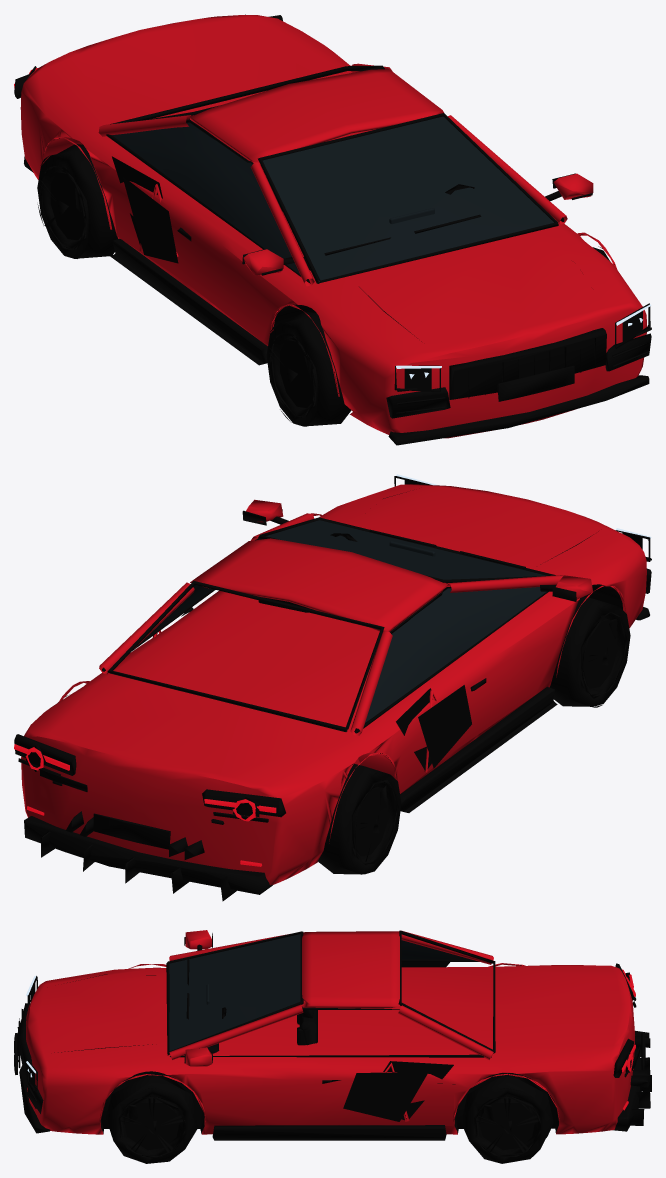
File: ferrari-far.glb
3 views of the same model, one above another, from view 1: azimuth 30°, elevation 25°; view 2: azimuth 150°, elevation 25°; view 3: azimuth 270°, elevation 25° (orthographic). The views are drawn at different scales.
Visible parts, largest first — view 1: chassis.001__Automotive clearcoat, chassis.001__Solar glass, chassis.001__Vehicle detail atlas, wheel_FL.001__Vehicle detail atlas, wheel_RL.001__Vehicle detail atlas; view 2: chassis.001__Automotive clearcoat, chassis.001__Vehicle detail atlas, chassis.001__Solar glass, wheel_FL.001__Vehicle detail atlas, wheel_RL.001__Vehicle detail atlas, chassis.001__Red LED optics; view 3: chassis.001__Automotive clearcoat, chassis.001__Vehicle detail atlas, chassis.001__Solar glass, wheel_FR.001__Vehicle detail atlas, wheel_RR.001__Vehicle detail atlas.
Boxes of the visible parts, x1,y1,x2,y2 form: chassis.001__Automotive clearcoat: (20, 15, 647, 438); chassis.001__Solar glass: (112, 116, 553, 281); chassis.001__Vehicle detail atlas: (14, 14, 651, 445); wheel_FL.001__Vehicle detail atlas: (266, 311, 351, 426); wheel_RL.001__Vehicle detail atlas: (37, 144, 117, 258); chassis.001__Automotive clearcoat: (21, 484, 646, 885); chassis.001__Vehicle detail atlas: (14, 476, 651, 901); chassis.001__Solar glass: (145, 520, 547, 722); wheel_FL.001__Vehicle detail atlas: (549, 596, 630, 707); wheel_RL.001__Vehicle detail atlas: (317, 764, 401, 874); chassis.001__Red LED optics: (14, 744, 276, 866); chassis.001__Automotive clearcoat: (26, 930, 634, 1134); chassis.001__Vehicle detail atlas: (14, 930, 651, 1140); chassis.001__Solar glass: (169, 934, 470, 1051); wheel_FR.001__Vehicle detail atlas: (106, 1073, 197, 1163); wheel_RR.001__Vehicle detail atlas: (461, 1073, 553, 1163).
Size of the model in its own units: 2.26 by 1.22 by 4.76.
Materials: 8 (6 with a texture image).
